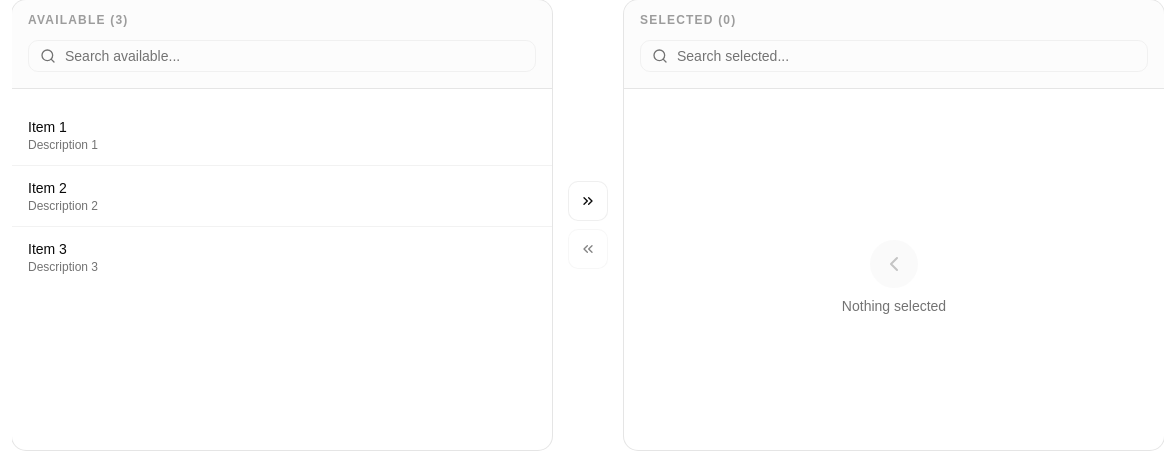
Test case: TransferList › filters items based on search
The image size is (1164, 468).
Type "Item 1" into the field with placeholder "Search available..." at (282, 56), box 28,40 -> 536,72
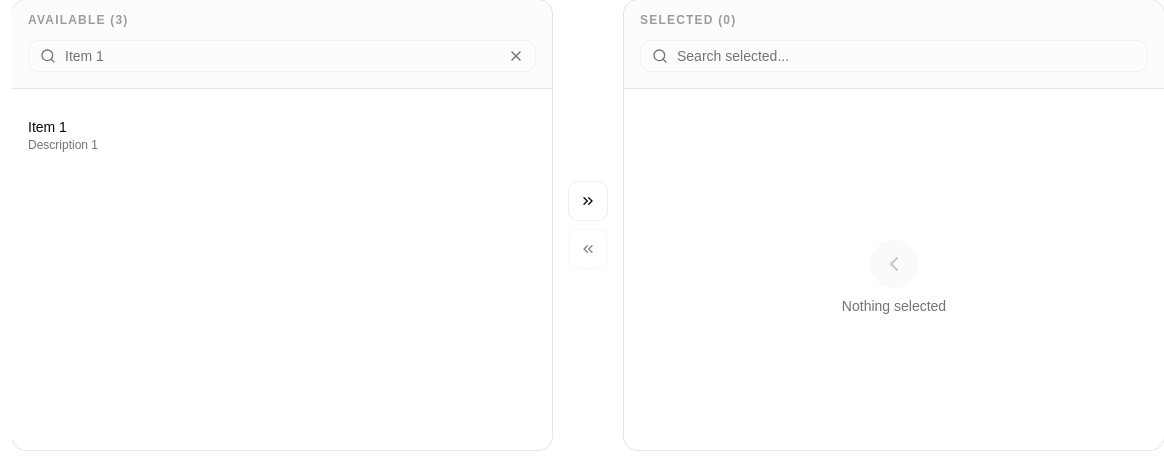
Check: the text "Item 1" is shown, box 28,119 -> 67,135
Check: the button "Item 2" is gone
